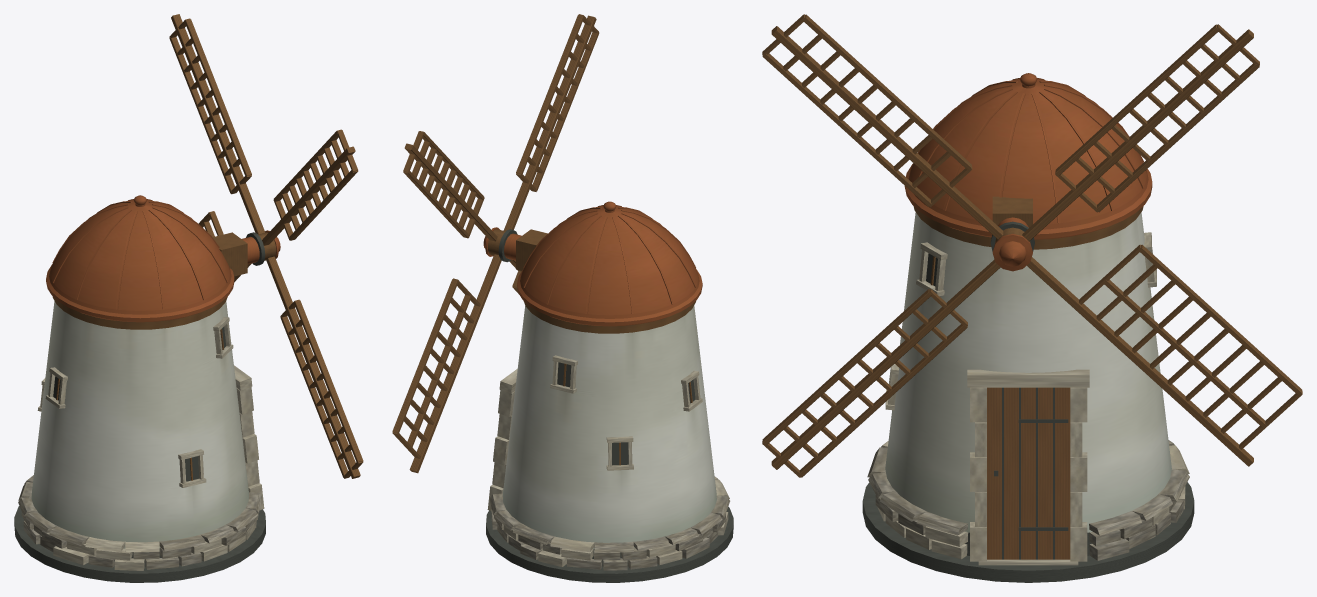
Rendered from windmill.glb.
The picture shows the model from 3 angles, left to right: view 1: azimuth 30°, elevation 25°; view 2: azimuth 150°, elevation 25°; view 3: azimuth 270°, elevation 25°; orthographic projection. The views are drawn at different scales.
Visible parts, largest first — view 1: WindmillBody; view 2: WindmillBody; view 3: WindmillBody.
Boxes of the visible parts, left/top/right/bottom form: WindmillBody: left=14, top=14, right=363, bottom=582; WindmillBody: left=392, top=14, right=733, bottom=582; WindmillBody: left=762, top=14, right=1302, bottom=582.
Bounding box in the file's own units: 3.98 × 6.79 × 5.82.
1 material, 1 textured.
